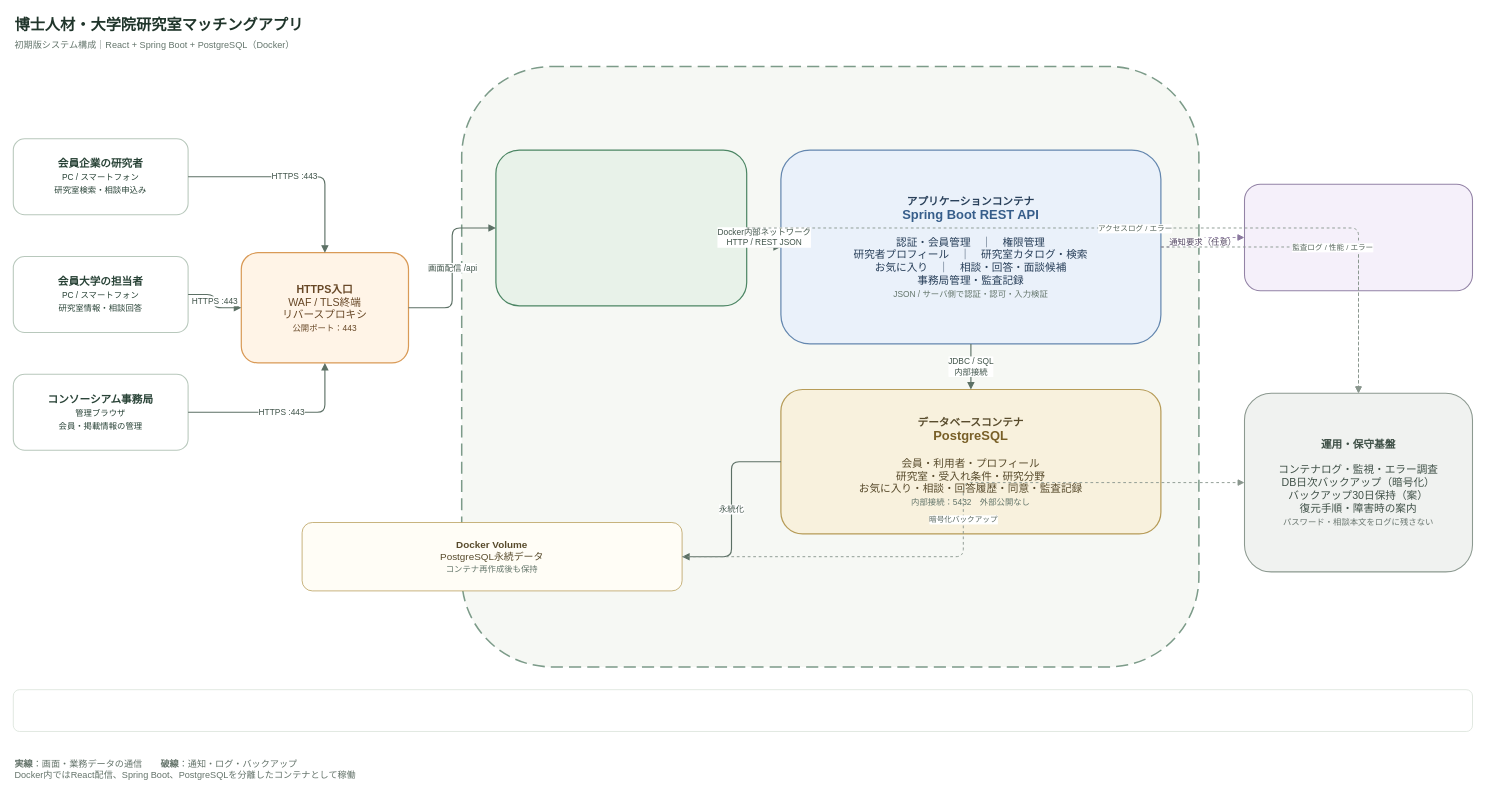
Image size: 1487x809. Some labels were removed from this diagram. The box of each missing label's shape, as (x1, y1, x2, y2) in pixels:
Docker Compose環境 内部ネットワーク｜DBポートは外部公開しない: (461, 65, 1199, 667)
Webコンテナ Nginx + React Reactビルド資産を配信 画面・ナビゲーション・フォーム /api をSpring Bootへ中継: (495, 149, 747, 306)
メール配信サービス 任意構成 会員承認・新着相談の通知 本文に相談内容を含めない: (1244, 183, 1473, 291)
保護方針 HTTPS通信｜DBは内部ネットワーク｜パスワードはハッシュ保存｜権限はAPI側で検証: (13, 689, 1472, 732)
